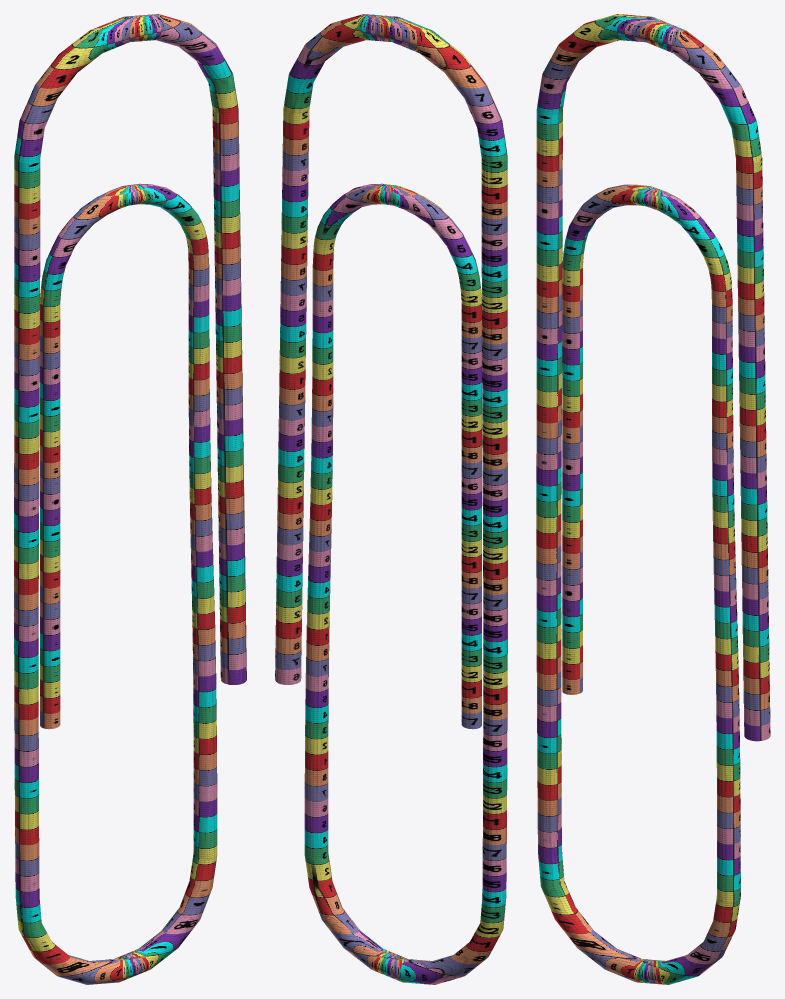
File: Paperclip UV Wrapped.fbx
3 renders of one model, left to right at view 1: azimuth 30°, elevation 25°; view 2: azimuth 150°, elevation 25°; view 3: azimuth 330°, elevation 25°, orthographic.
Parts seen in each view (by area): view 1: Paperclip:pTorus4; view 2: Paperclip:pTorus4; view 3: Paperclip:pTorus4.
Boxes of the visible parts, box(x1,y1,x2,y2) form: Paperclip:pTorus4: box(14, 14, 246, 984); Paperclip:pTorus4: box(275, 14, 507, 984); Paperclip:pTorus4: box(536, 14, 770, 984).
Bounding box in the file's own units: 1.79 × 7.18 × 0.1777.
1 material, 1 textured.
